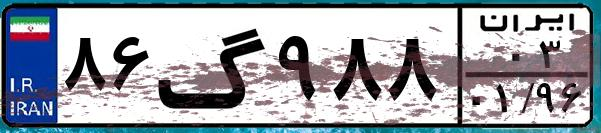0: (508, 27, 537, 80), (470, 70, 495, 125)
1: (495, 70, 520, 125)
3: (537, 27, 568, 80)
6: (110, 28, 156, 98), (560, 70, 590, 125)
8: (385, 28, 445, 110), (330, 28, 385, 110), (57, 26, 110, 100)
9: (270, 28, 330, 110), (535, 70, 560, 125)
گ: (156, 12, 270, 120)
